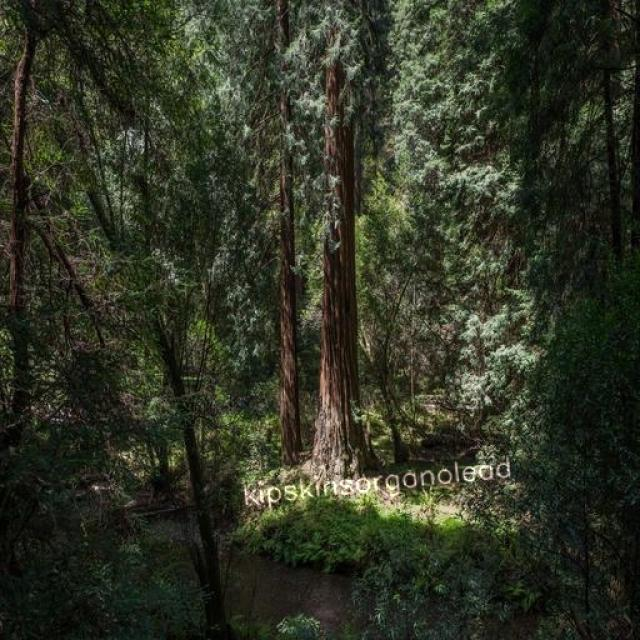watermark: (235, 453, 512, 509)
